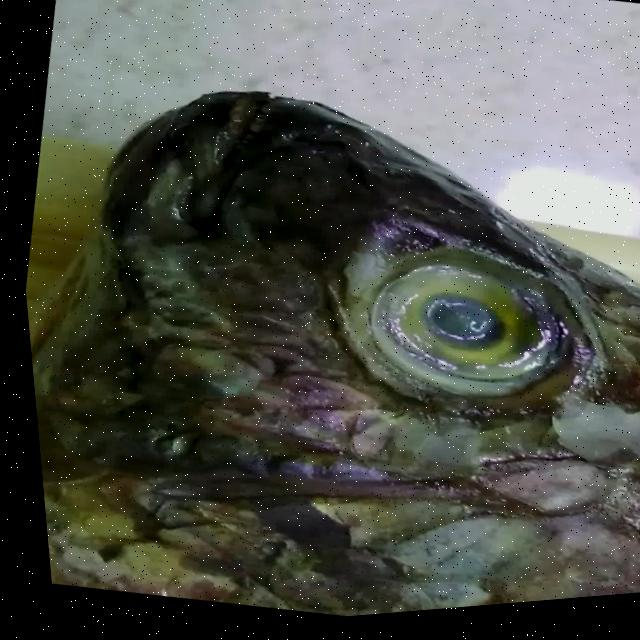Non-Fresh: (339, 228, 604, 432)
